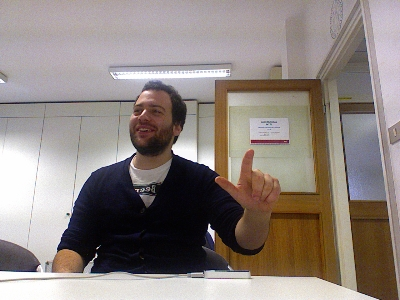枪: (212, 148, 281, 214)
